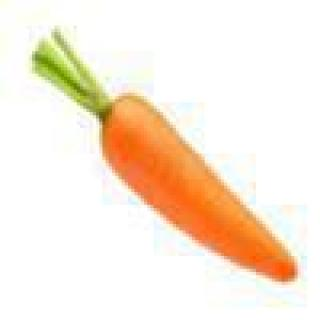Wortel: (7, 20, 302, 302)
